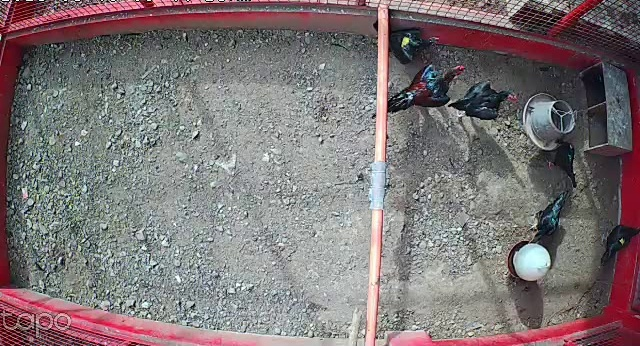Chicken: (447, 74, 525, 120), (371, 18, 441, 66), (525, 189, 572, 247), (599, 217, 640, 270), (546, 138, 580, 188), (401, 36, 412, 48)
Rooster: (384, 60, 463, 117)
Saddle_Color_Yellow: (620, 237, 626, 244)
